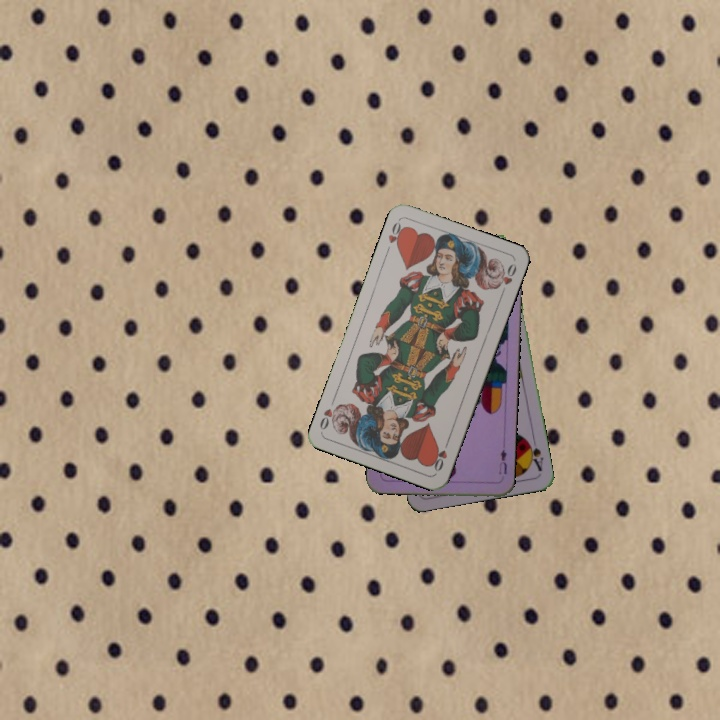EU: (495, 445, 509, 477)
HO: (382, 216, 408, 256), (428, 436, 452, 474)
SA: (523, 435, 546, 474)
